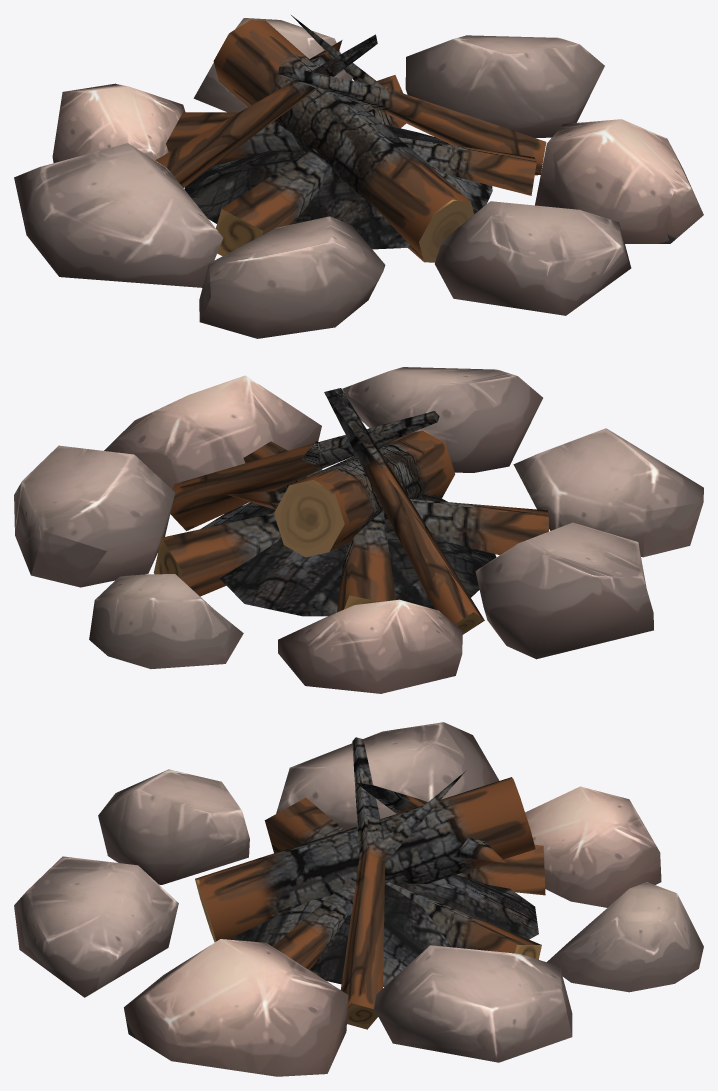
The model's file is campfire_A.fbx.
3 renders of one model, top to bottom at view 1: azimuth 30°, elevation 25°; view 2: azimuth 150°, elevation 25°; view 3: azimuth 270°, elevation 25°, orthographic.
Visible parts, largest first — view 1: campfire_A; view 2: campfire_A; view 3: campfire_A.
Boxes of the visible parts, <box> form: campfire_A: <box>14,15,703,338</box>; campfire_A: <box>14,367,703,693</box>; campfire_A: <box>14,722,703,1076</box>.
Bounding box in the file's own units: 109 × 30.27 × 108.
